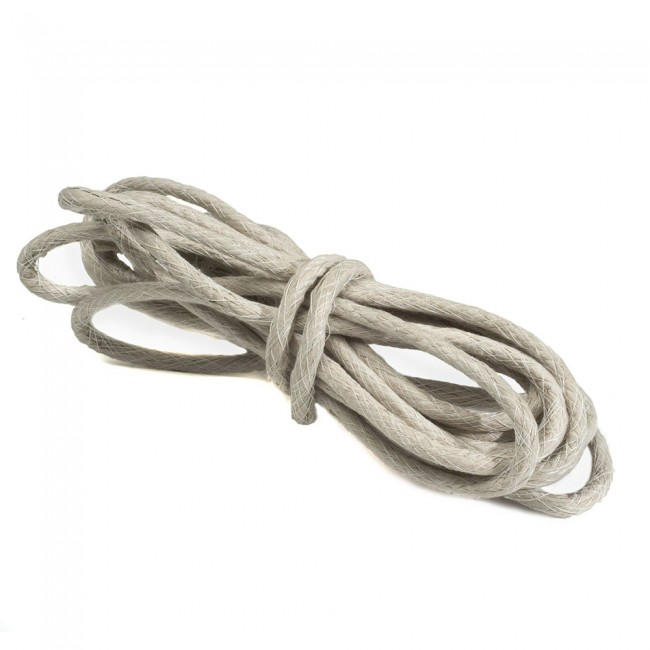Nonrec_Tangler: (1, 157, 622, 521)
